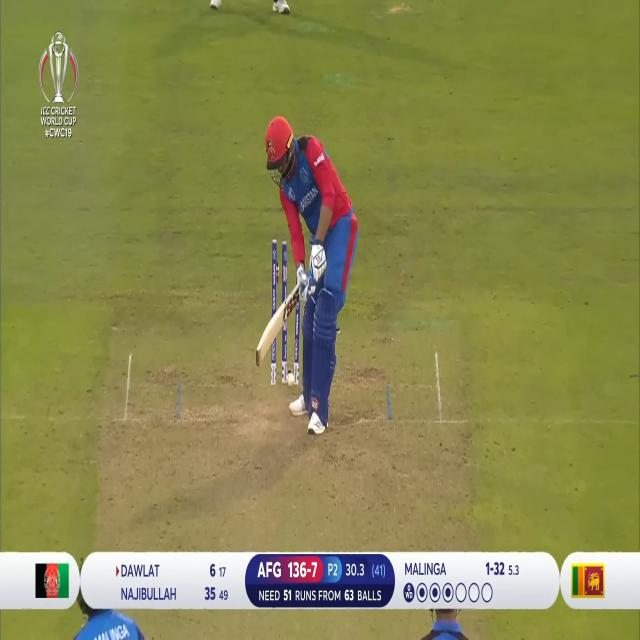ball: (284, 372, 298, 390)
